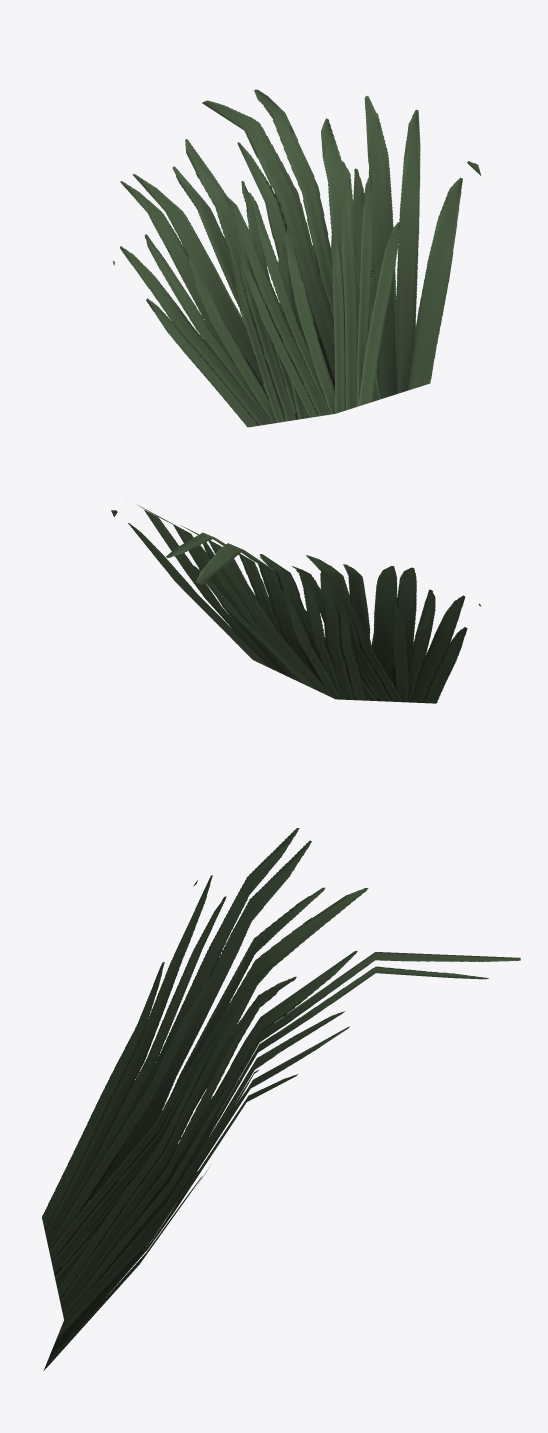
The model's file is 1FinalGrassBlade.FBX.
3 renders of one model, top to bottom at view 1: azimuth 30°, elevation 25°; view 2: azimuth 150°, elevation 25°; view 3: azimuth 270°, elevation 25°, orthographic. The views are drawn at different scales.
Visible parts, largest first — view 1: grassplane; view 2: grassplane; view 3: grassplane.
Boxes of the visible parts, box(x1,y1,x2,y2) form: grassplane: box(112, 89, 481, 427); grassplane: box(111, 504, 481, 703); grassplane: box(42, 828, 520, 1370).
Size of the model in its own units: 38.2 by 25.4 by 27.5.
